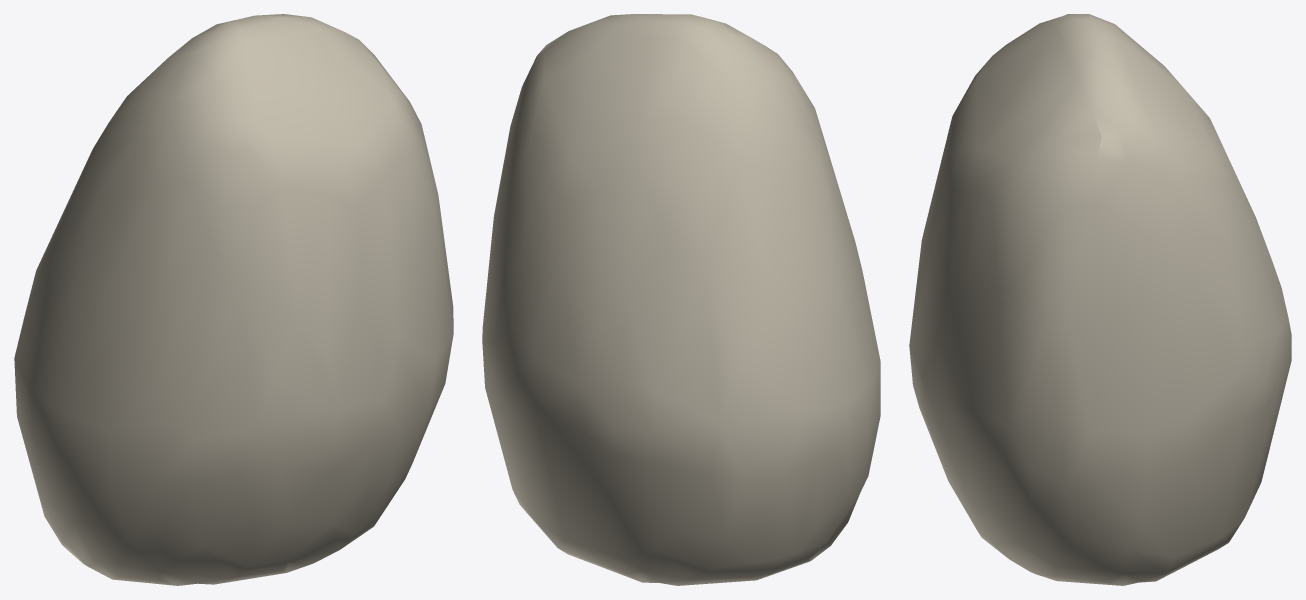
The model's file is Boulder_02_Upright.fbx.
3 renders of one model, left to right at view 1: azimuth 30°, elevation 25°; view 2: azimuth 150°, elevation 25°; view 3: azimuth 270°, elevation 25°, orthographic. The views are drawn at different scales.
Parts seen in each view (by area): view 1: Boulder_02_Upright_LOD1_Mesh; view 2: Boulder_02_Upright_LOD1_Mesh; view 3: Boulder_02_Upright_LOD1_Mesh.
Part boxes in pixels (x1,y1,x2,y2): Boulder_02_Upright_LOD1_Mesh: [14, 14, 453, 585]; Boulder_02_Upright_LOD1_Mesh: [482, 14, 880, 585]; Boulder_02_Upright_LOD1_Mesh: [909, 14, 1291, 585].
Bounding box in the file's own units: 1.72 × 2.26 × 1.53.
